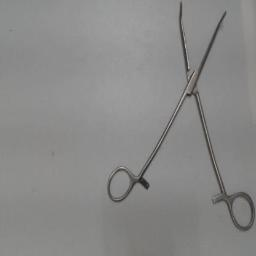Lahey Forceps: (102, 1, 256, 237)
